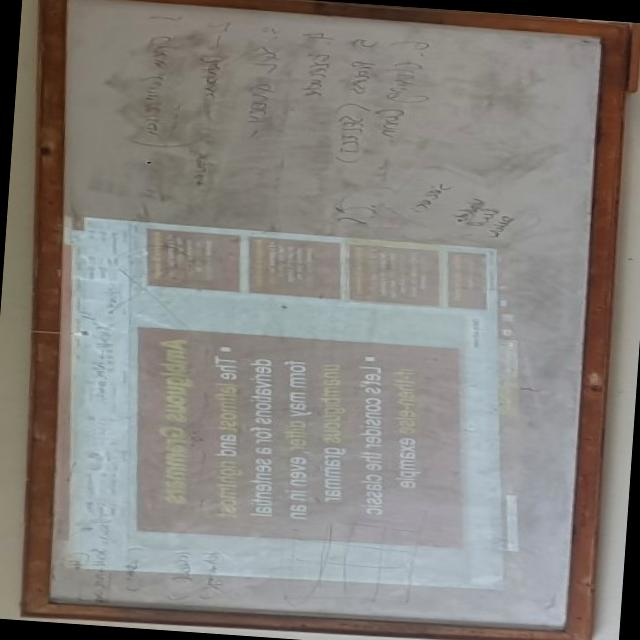Slide: (55, 212, 526, 588)
White-board: (31, 0, 625, 638)
